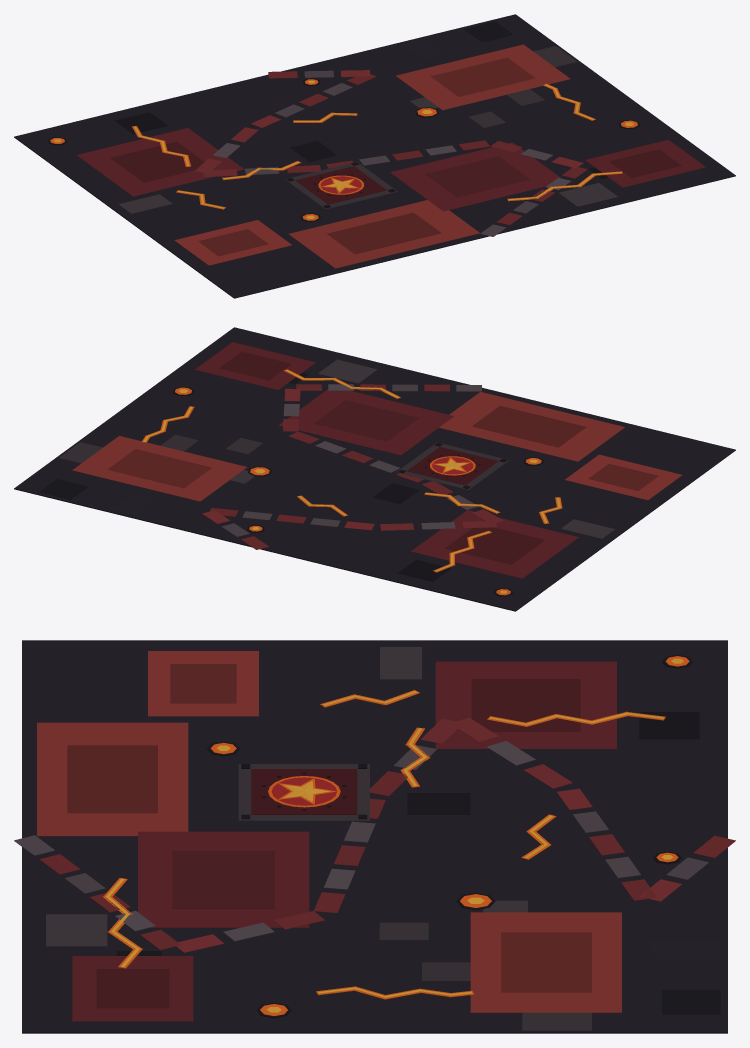
File: Decor_HellGate_Ground.fbx
3 renders of one model, top to bottom at view 1: azimuth 30°, elevation 25°; view 2: azimuth 150°, elevation 25°; view 3: azimuth 270°, elevation 25°, orthographic. The views are drawn at different scales.
Parts seen in each view (by area): view 1: Ground_Body; view 2: Ground_Body; view 3: Ground_Body.
Boxes of the visible parts, left/top/right/bottom form: Ground_Body: left=14, top=14, right=735, bottom=298; Ground_Body: left=14, top=327, right=735, bottom=611; Ground_Body: left=14, top=640, right=735, bottom=1033.
Bounding box in the file's own units: 180 × 0.58 × 140.
